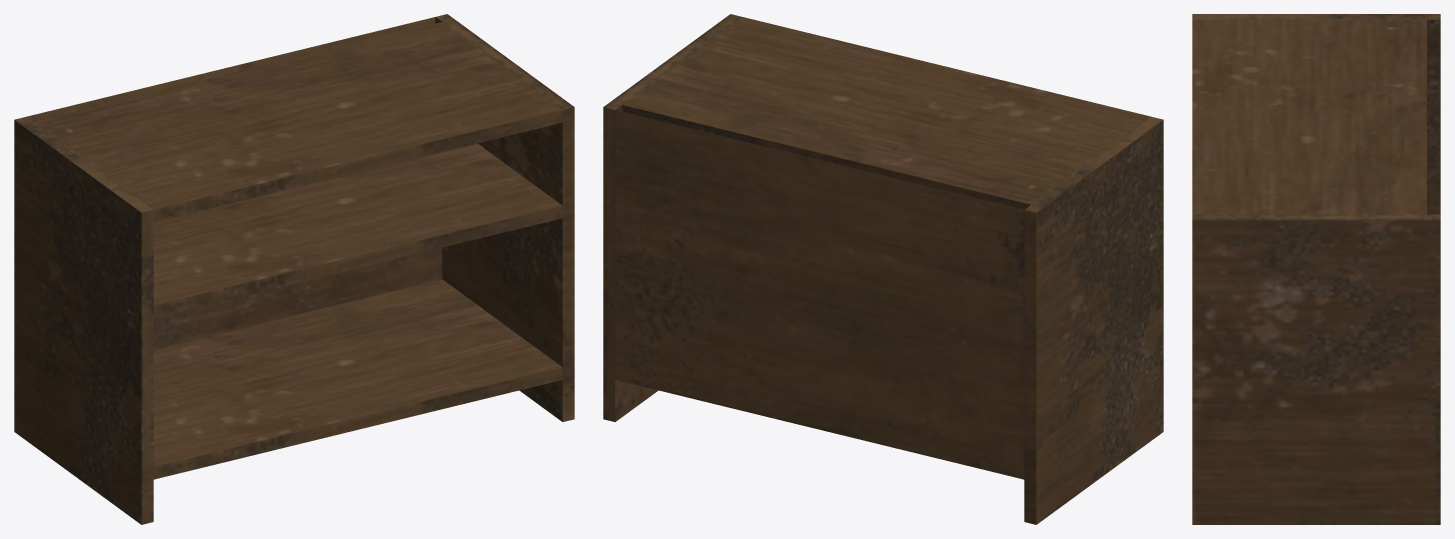
The model's file is shelf.glb.
3 renders of one model, left to right at view 1: azimuth 30°, elevation 25°; view 2: azimuth 150°, elevation 25°; view 3: azimuth 270°, elevation 25°, orthographic. The views are drawn at different scales.
Visible parts, largest first — view 1: closet004; view 2: closet004; view 3: closet004.
Boxes of the visible parts, box(x1,y1,x2,y2) form: closet004: box(14, 14, 574, 524); closet004: box(603, 14, 1163, 524); closet004: box(1192, 14, 1440, 524).
Bounding box in the file's own units: 1.5 × 1.03 × 0.7627.
Materials: 1 (1 with a texture image).
